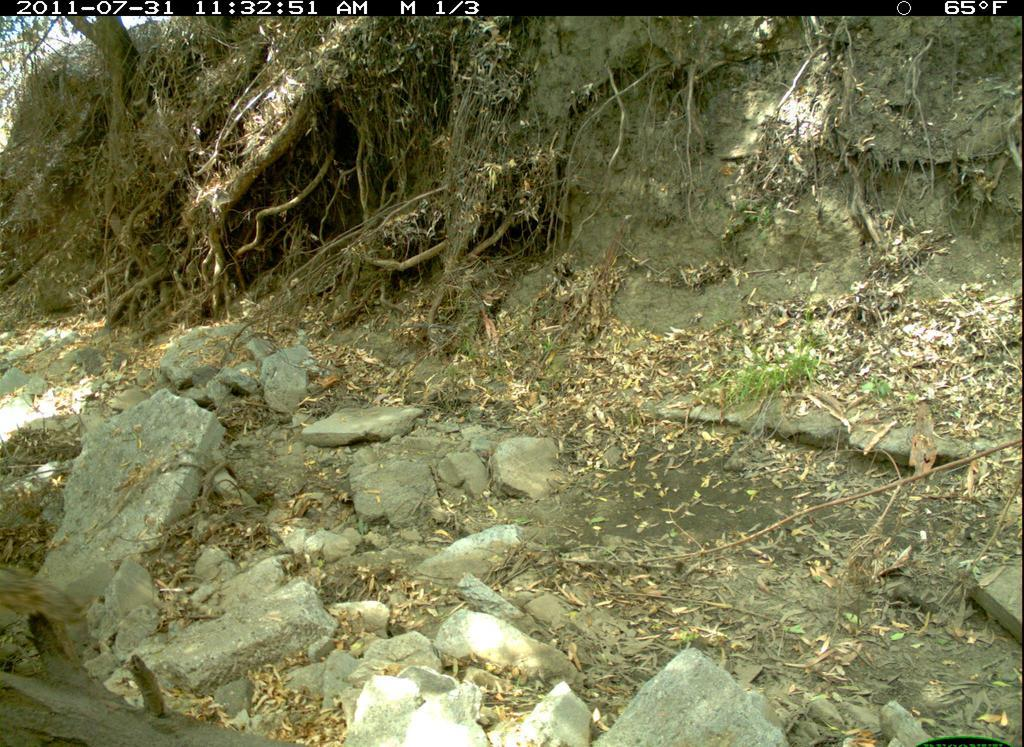squirrel: (1, 556, 102, 661)
